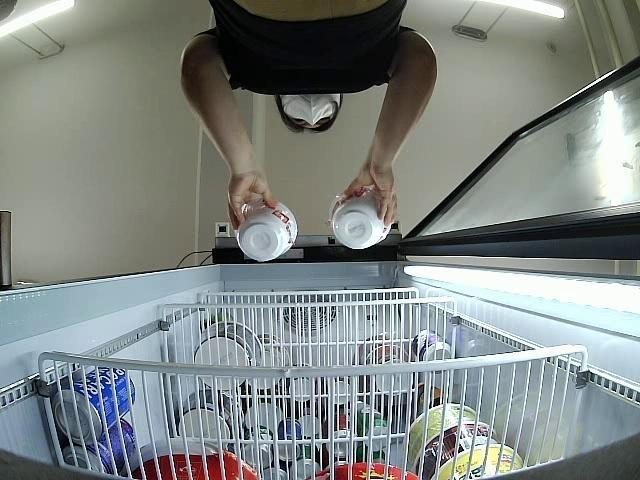09_yukGaeJang: (234, 196, 298, 261), (332, 188, 390, 250)
